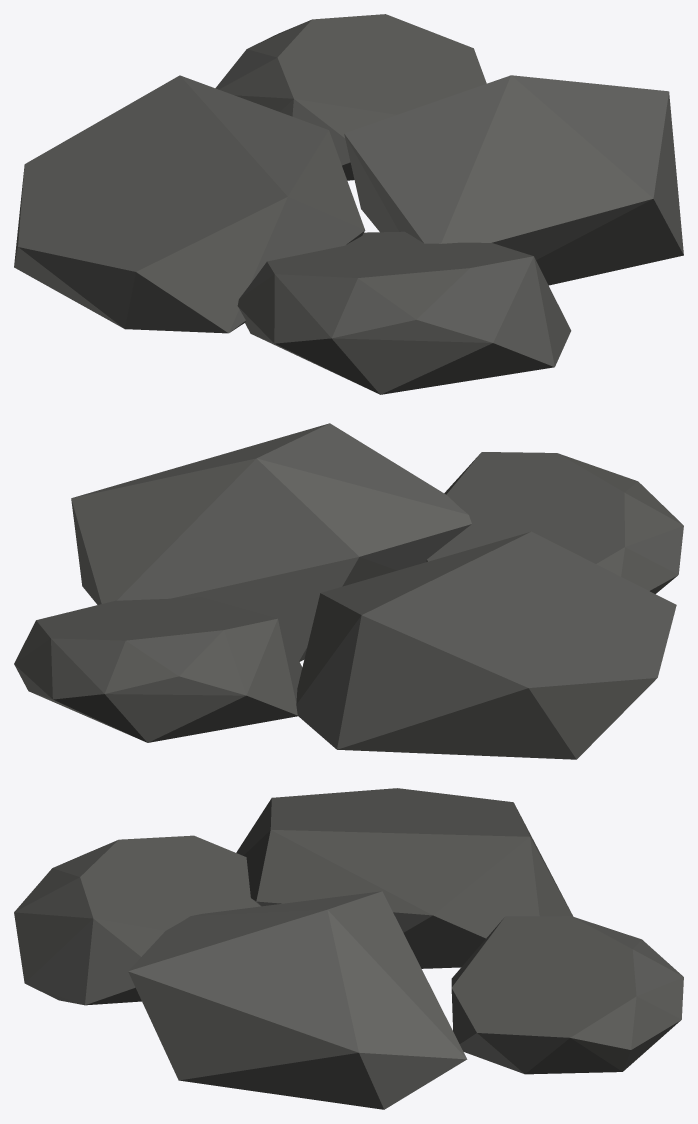
File: SM_Envr_Nature_Rock_Rubble_06.fbx
3 renders of one model, top to bottom at view 1: azimuth 30°, elevation 25°; view 2: azimuth 150°, elevation 25°; view 3: azimuth 270°, elevation 25°, orthographic. The views are drawn at different scales.
Visible parts, largest first — view 1: SM_Envr_Nature_Rock_Rubble_06; view 2: SM_Envr_Nature_Rock_Rubble_06; view 3: SM_Envr_Nature_Rock_Rubble_06.
Boxes of the visible parts, x1=… form: SM_Envr_Nature_Rock_Rubble_06: x1=14, y1=14, x2=683, y2=394; SM_Envr_Nature_Rock_Rubble_06: x1=14, y1=423, x2=683, y2=759; SM_Envr_Nature_Rock_Rubble_06: x1=14, y1=788, x2=683, y2=1109.
Size of the model in its own units: 323 by 79.06 by 326.
